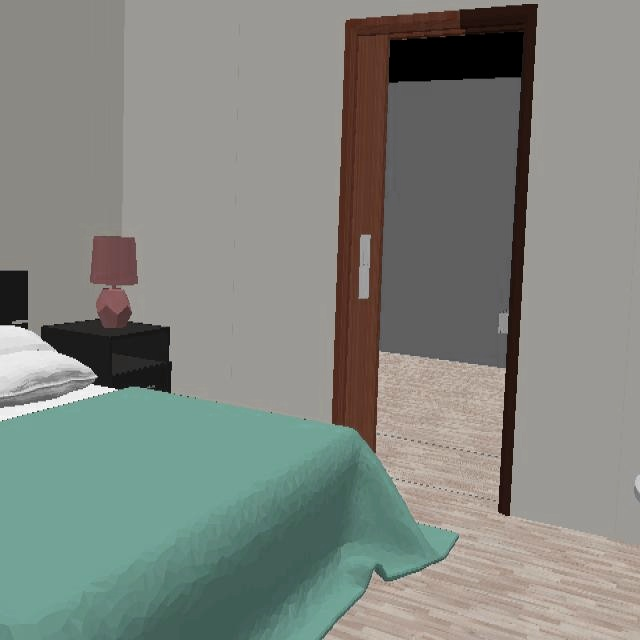bed: (0, 271, 460, 640)
lamp: (90, 236, 138, 329)
nighttable: (40, 320, 172, 391)
pillow: (0, 325, 98, 408)
